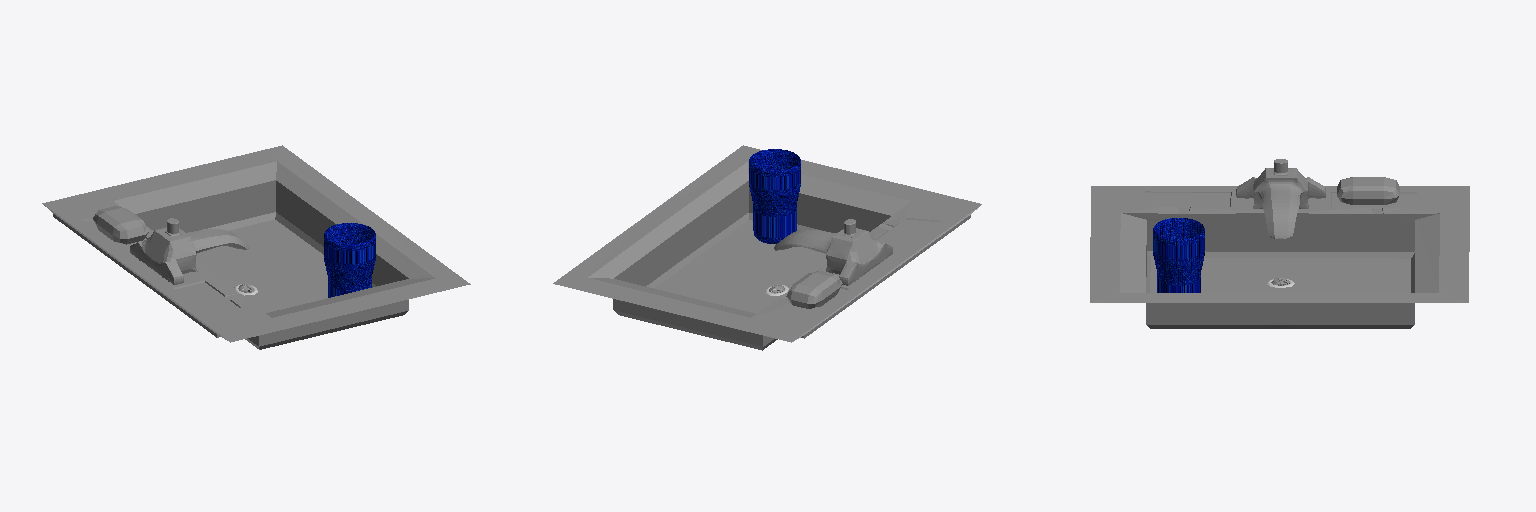
3 views of the same model, side by side, from view 1: azimuth 30°, elevation 25°; view 2: azimuth 150°, elevation 25°; view 3: azimuth 270°, elevation 25° (orthographic).
Parts seen in each view (by area): view 1: Box21; view 2: Box21; view 3: Box21.
Part boxes in pixels (left/top/right/bottom): Box21: left=42, top=145, right=470, bottom=349; Box21: left=553, top=145, right=981, bottom=350; Box21: left=1090, top=159, right=1469, bottom=328.
Bounding box in the file's own units: 55.39 × 23.95 × 75.31.
5 materials, 1 textured.